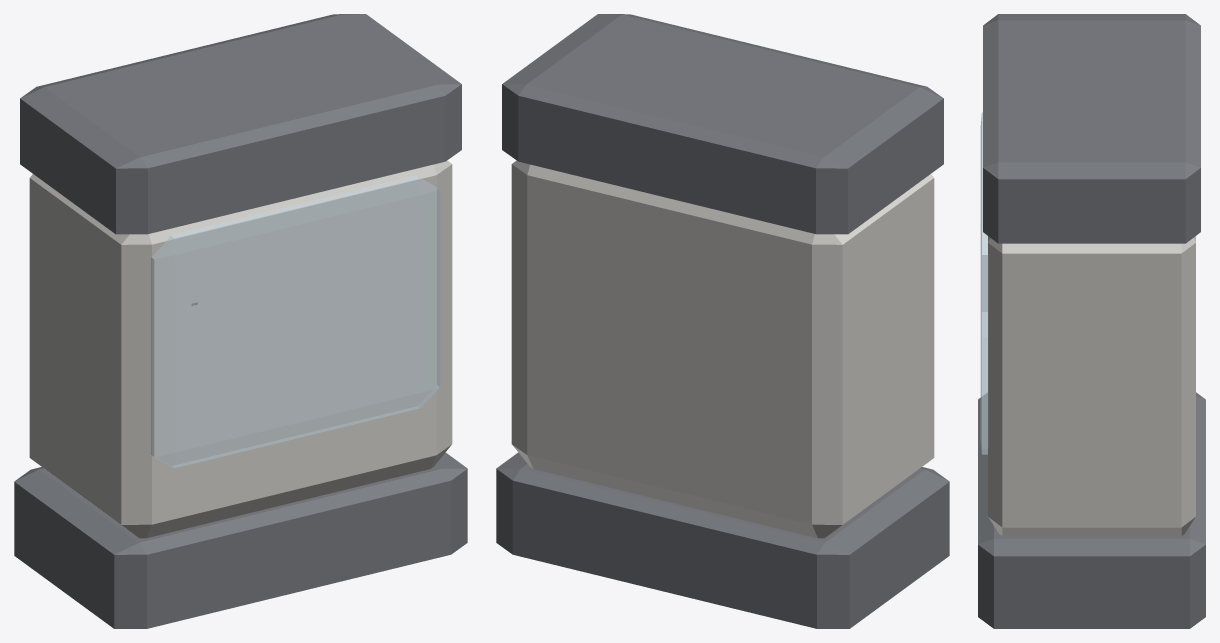
The model's file is b10_bakery_sidewalk_glass_case.glb.
3 views of the same model, side by side, from view 1: azimuth 30°, elevation 25°; view 2: azimuth 150°, elevation 25°; view 3: azimuth 270°, elevation 25° (orthographic). The views are drawn at different scales.
Visible parts, largest first — view 1: b10_bakery_sidewalk_glass_case; view 2: b10_bakery_sidewalk_glass_case; view 3: b10_bakery_sidewalk_glass_case.
Part boxes in pixels (left/top/right/bottom): b10_bakery_sidewalk_glass_case: left=14, top=14, right=467, bottom=628; b10_bakery_sidewalk_glass_case: left=496, top=14, right=949, bottom=628; b10_bakery_sidewalk_glass_case: left=978, top=14, right=1205, bottom=628.
Size of the model in its own units: 1.24 by 1.57 by 0.707.
